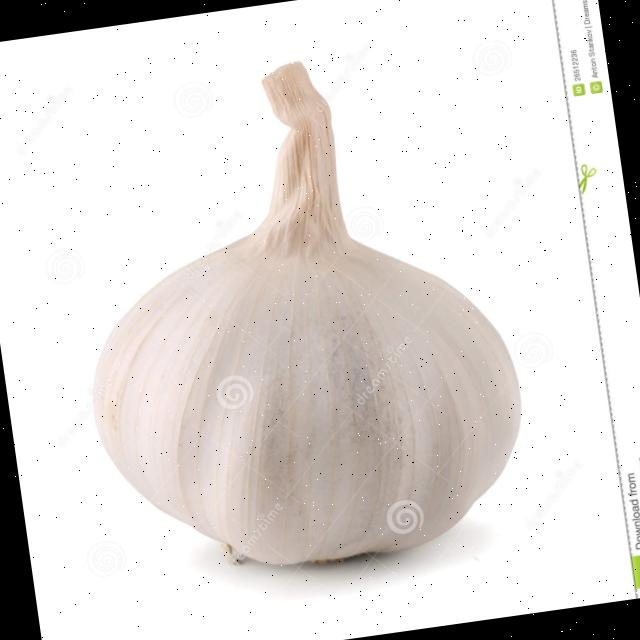garlic: (95, 62, 519, 563)
